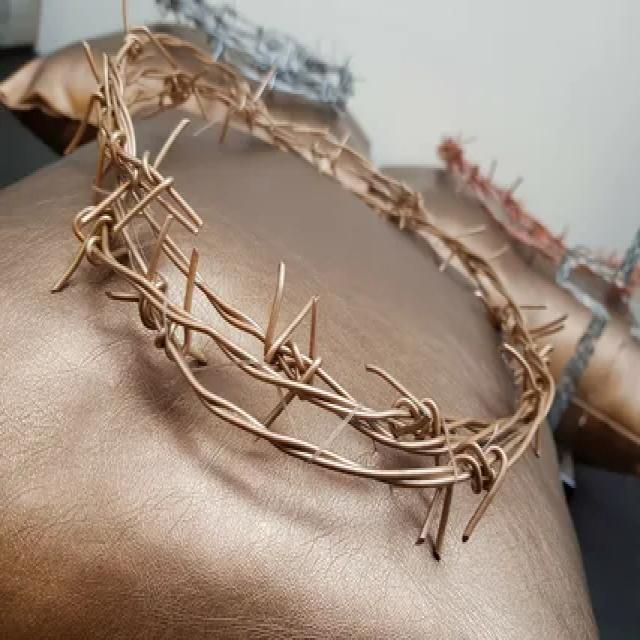crown: (78, 14, 571, 532)
